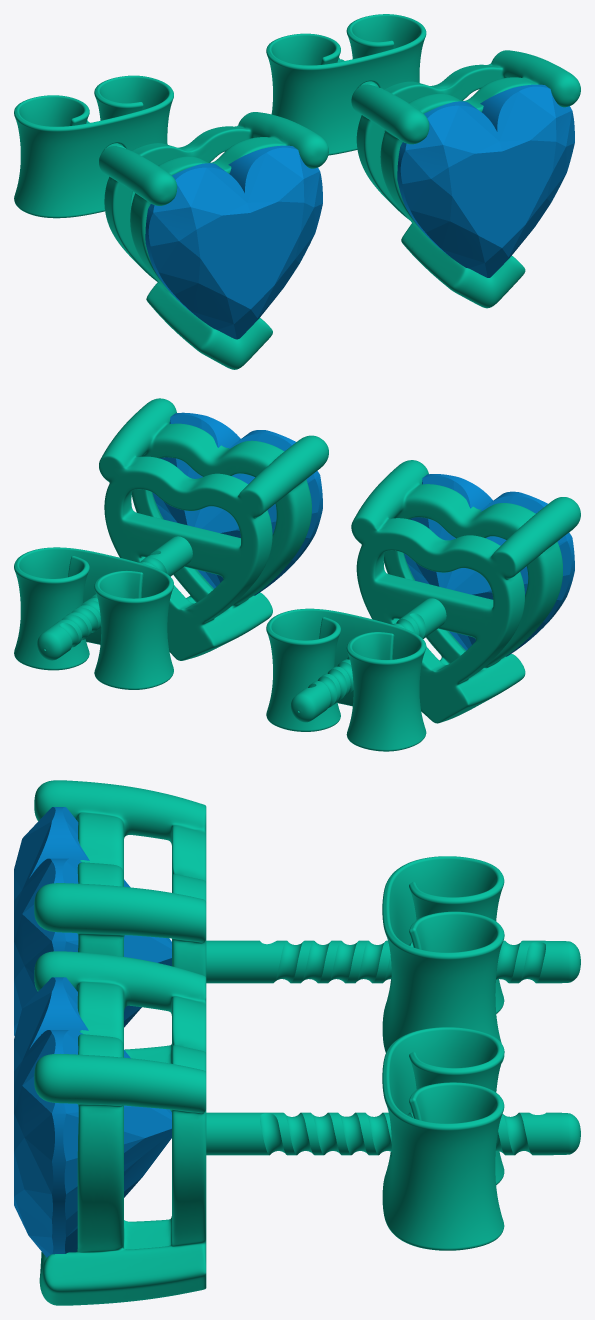
3 views of the same model, one above another, from view 1: azimuth 30°, elevation 25°; view 2: azimuth 150°, elevation 25°; view 3: azimuth 270°, elevation 25° (orthographic). The views are drawn at different scales.
Parts seen in each view (by area): view 1: FFOR RENDER.3dm, Diamond_Heart (×2); view 2: FFOR RENDER.3dm, Diamond_Heart (×2); view 3: FFOR RENDER.3dm, Diamond_Heart (×2).
Part boxes in pixels (x1,y1,x2,y2): FFOR RENDER.3dm: (14,14,580,369); Diamond_Heart (×2): (145,84,574,339); FFOR RENDER.3dm: (14,398,580,751); Diamond_Heart (×2): (152,412,574,656); FFOR RENDER.3dm: (34,780,580,1305); Diamond_Heart (×2): (14,807,171,1257).
Size of the model in its own units: 2.91 by 1.38 by 2.37.
